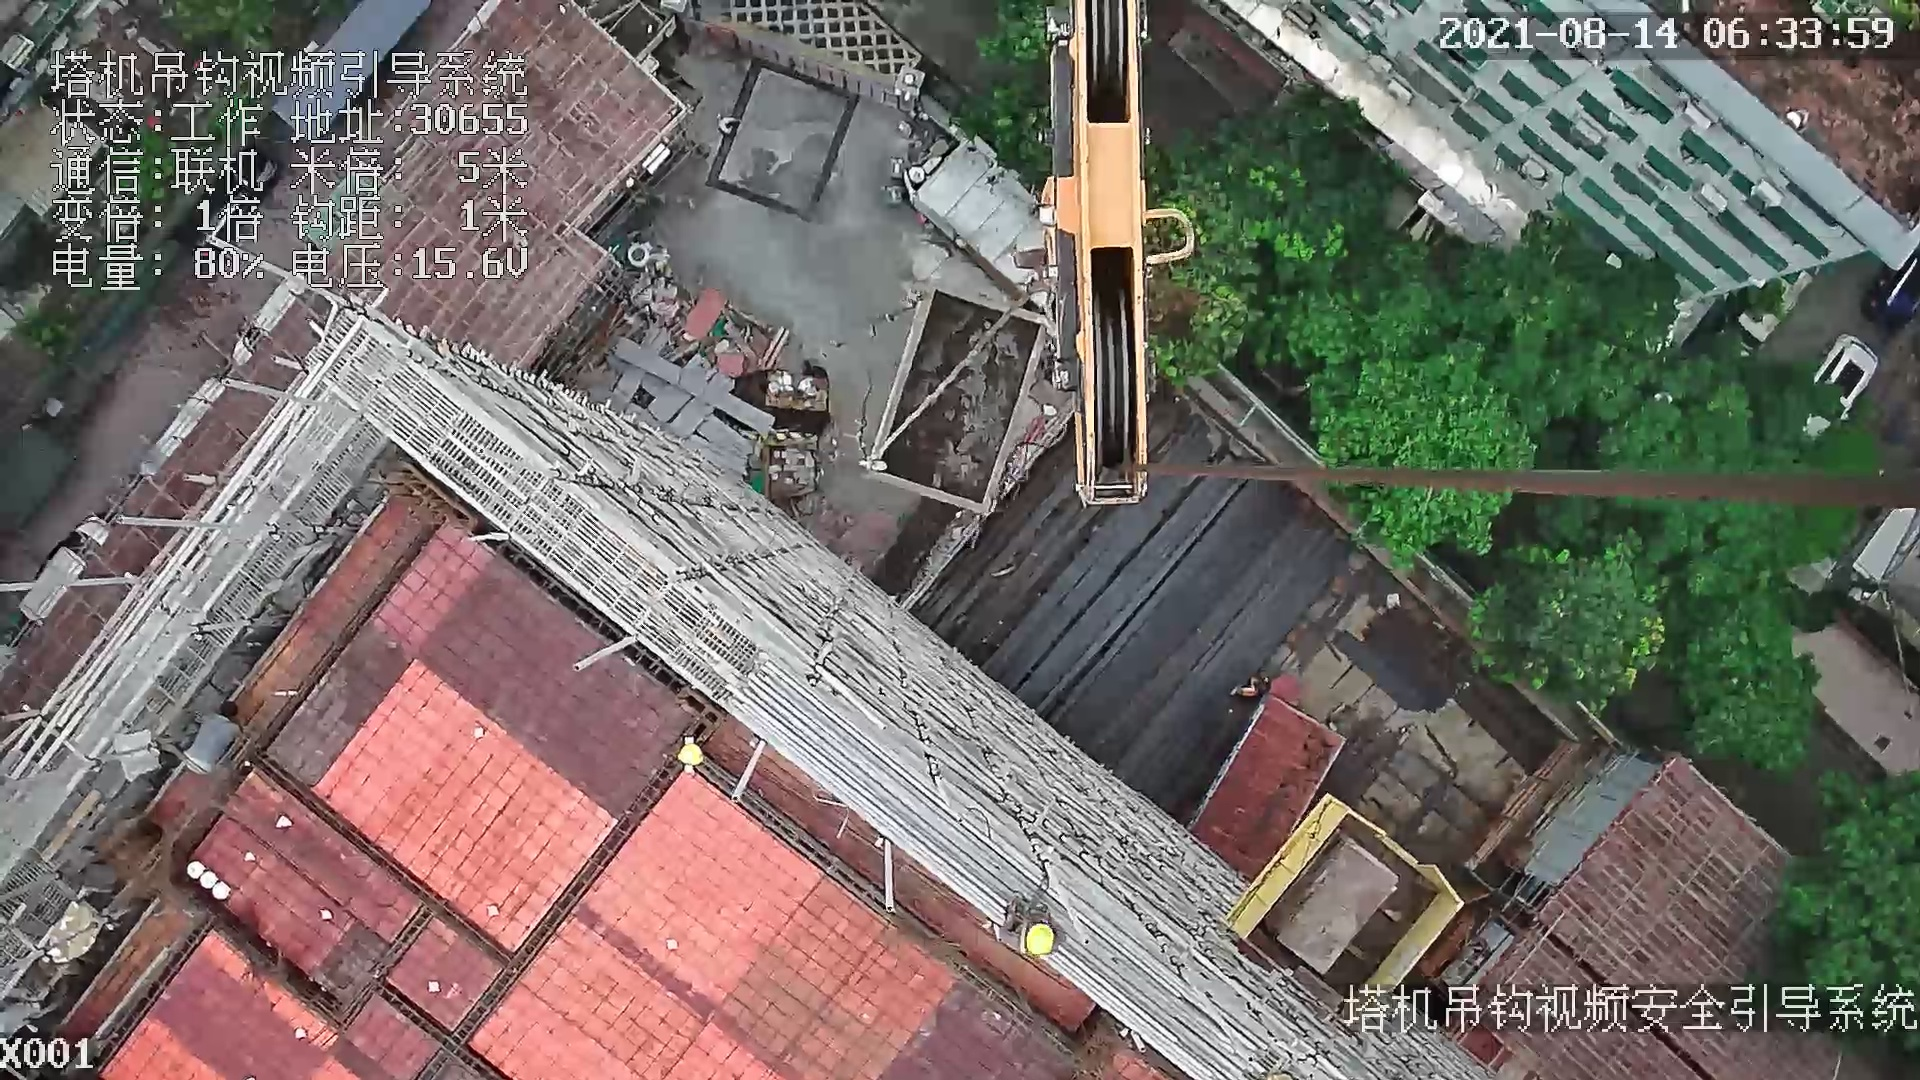helmet: (1024, 925, 1059, 956), (674, 741, 707, 768)
hook: (1020, 5, 1197, 513)
hopper: (872, 267, 1047, 514)
person: (985, 874, 1077, 959)
rebar: (986, 499, 1309, 758)
